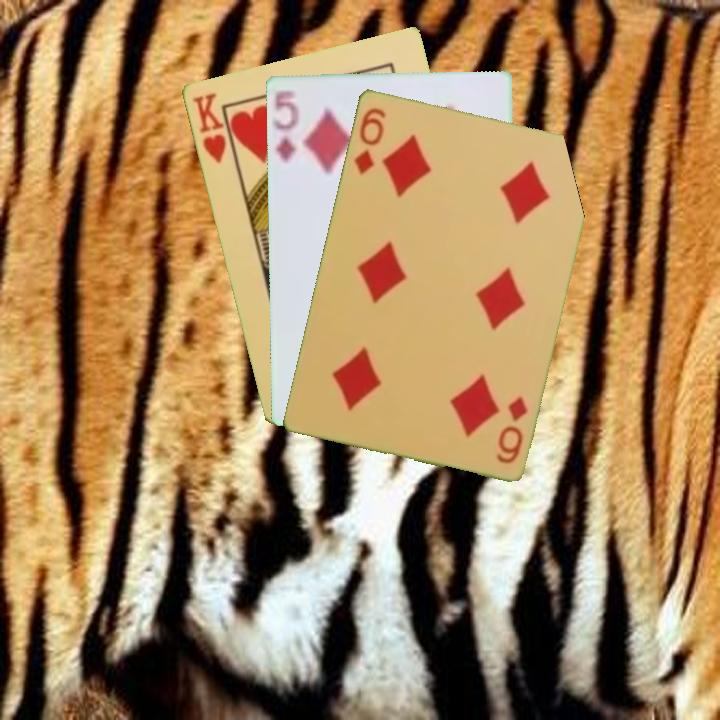5d: (269, 85, 301, 165)
6d: (492, 391, 530, 466), (350, 103, 388, 177)
Kh: (189, 89, 238, 168)
